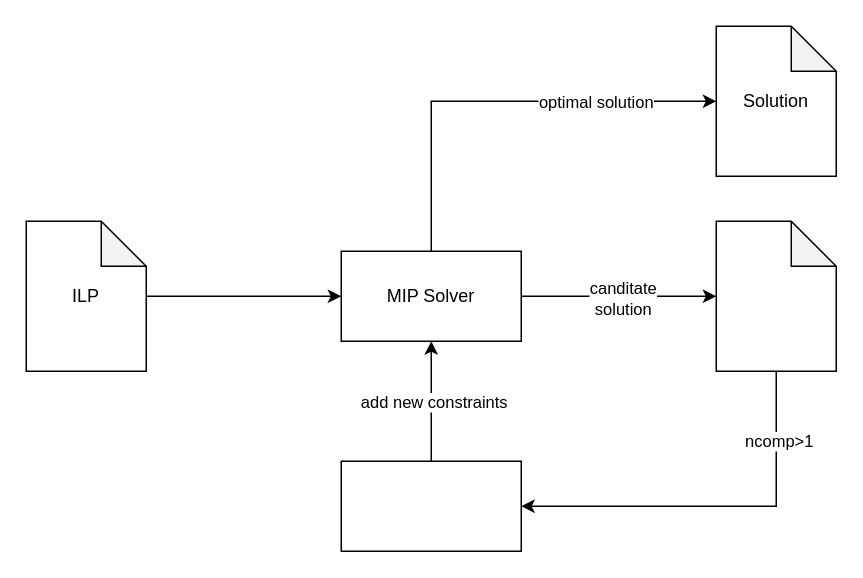
This 863x578 diagram has some shape labels left out. The centre of each missing label's shape, as x and y in pixels:
"Candidate Solution" goes at (775,295).
"SEC Generator" goes at (430,505).
